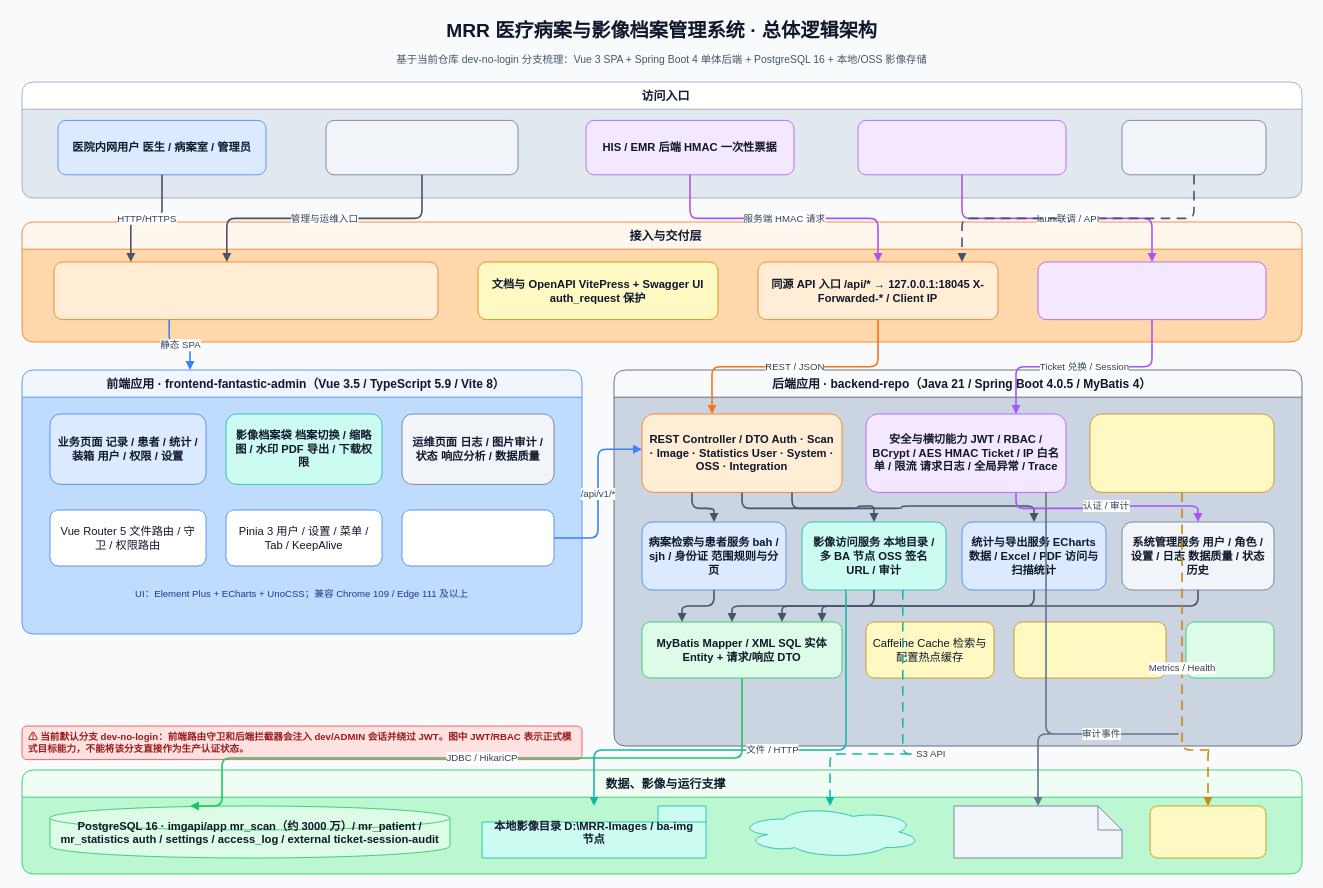
Some shapes in this 1323 by 888 pixel diagram are drawn without their labels. Here are the shapes that lost their labels. From the top down, the centre of each, then its label:
At (x=421, y=147): "运维人员 监控 / 配置 / 发布".
At (x=961, y=147): "外部调阅浏览器 短期 HttpOnly Session".
At (x=1193, y=147): "集成与测试客户端 Python / Java / C#".
At (x=245, y=290): "MRR-Gateway · Nginx :80 静态资源 / SPA 回退 / Gzip / 缓存 / 安全响应头".
At (x=1151, y=290): "外部影像入口 /archive/external?ticket=… Ticket 兑换与会话建立".
At (x=1181, y=452): "SpringDoc / Actuator OpenAPI 3 / Health / Info Prometheus Metrics :18046".
At (x=477, y=537): "Axios API 层 类型封装 / 响应解包 / 401 处理".
At (x=1089, y=649): "异步任务与调度 线程池 / 日志清理 / 状态检查".
At (x=1229, y=649): "Flyway Migration app schema 版本化".
At (x=829, y=831): "S3 兼容 OSS（可选） 签名 URL / 迁移状态".
At (x=1037, y=831): "结构化日志与审计 滚动文件 / 访问记录".
At (x=1207, y=831): "可观测性（可选原生服务） Prometheus / Grafana / Alertmanager / Exporters".
